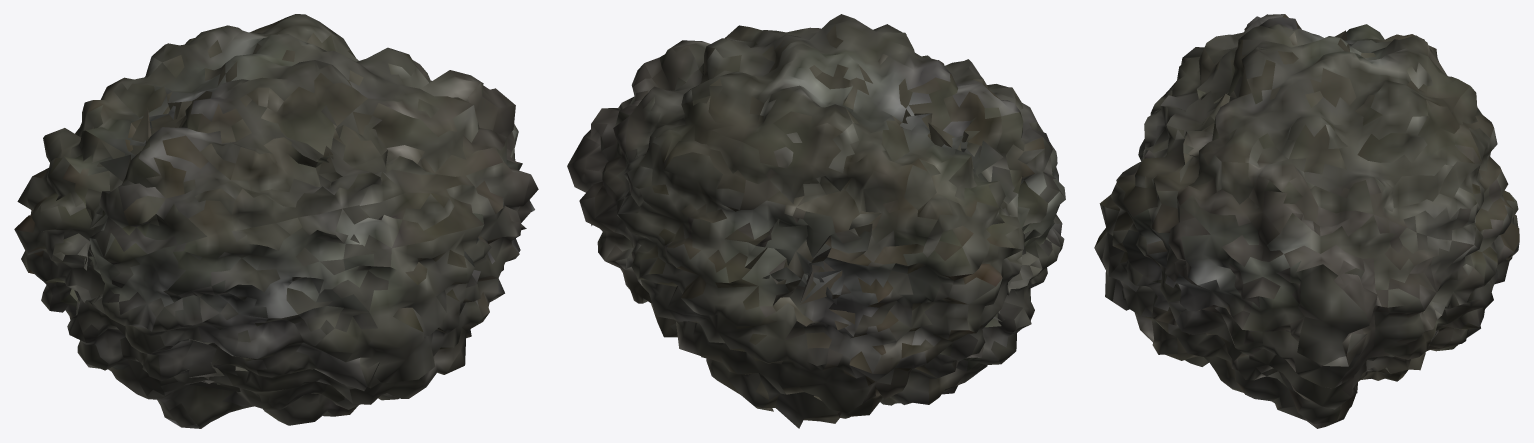
Rendered from rock.glb.
3 views of the same model, side by side, from view 1: azimuth 30°, elevation 25°; view 2: azimuth 150°, elevation 25°; view 3: azimuth 270°, elevation 25° (orthographic). The views are drawn at different scales.
Parts seen in each view (by area): view 1: rock; view 2: rock; view 3: rock.
Part boxes in pixels (bbox=[...]): rock: bbox=[14, 14, 538, 428]; rock: bbox=[567, 14, 1065, 428]; rock: bbox=[1094, 14, 1519, 428].
Size of the model in its own units: 0.1019 by 0.0765 by 0.0861.
Materials: 1 (1 with a texture image).
